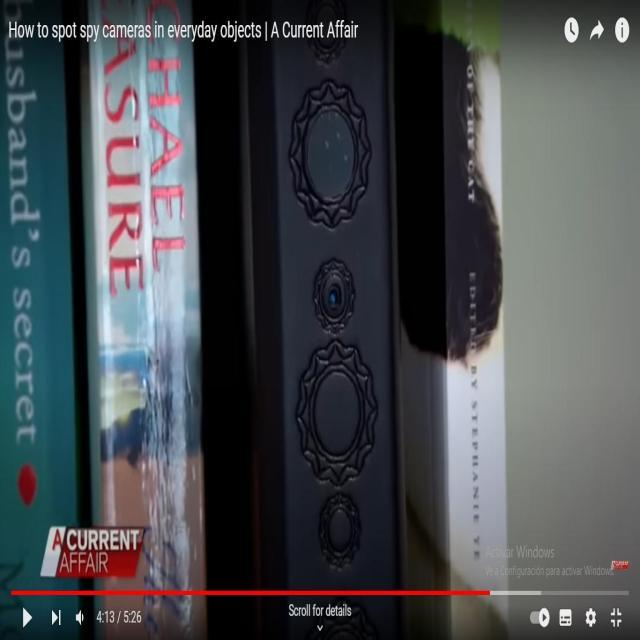hidden camera: (318, 262, 351, 325)
